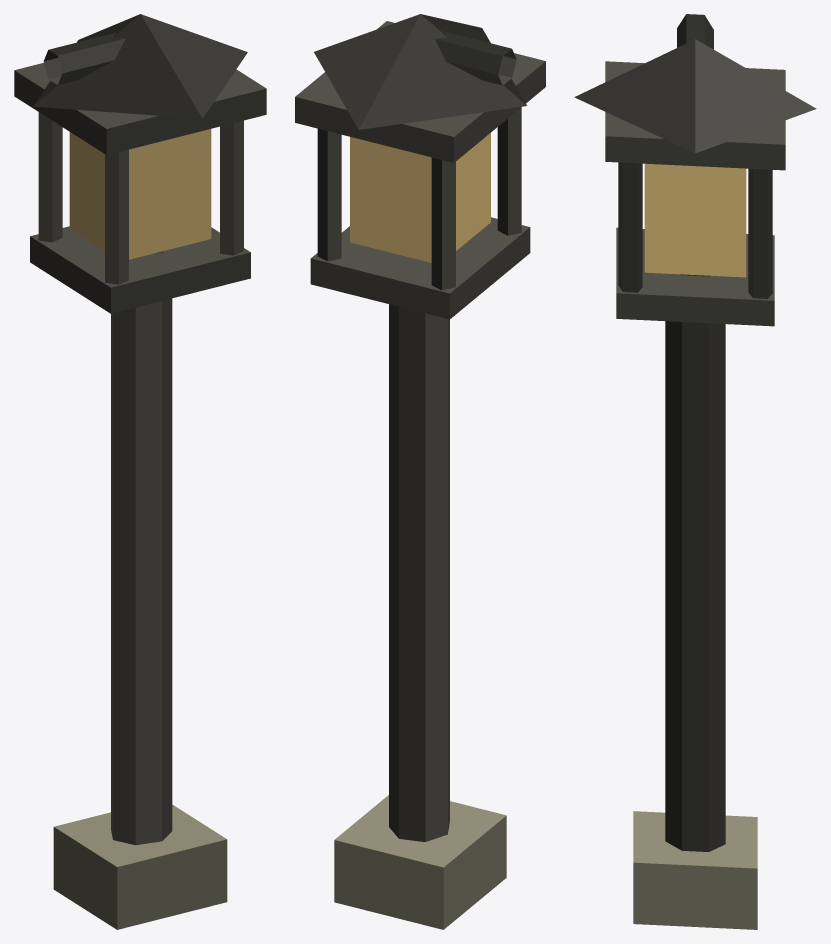
3 views of the same model, side by side, from view 1: azimuth 30°, elevation 25°; view 2: azimuth 150°, elevation 25°; view 3: azimuth 270°, elevation 25° (orthographic). The views are drawn at different scales.
Parts seen in each view (by area): view 1: 81ed4967d3b385b6c397827078aa86af06f202876e8261ff647e7fce7c85; view 2: 81ed4967d3b385b6c397827078aa86af06f202876e8261ff647e7fce7c85; view 3: 81ed4967d3b385b6c397827078aa86af06f202876e8261ff647e7fce7c85.
Boxes of the visible parts, x1=… form: 81ed4967d3b385b6c397827078aa86af06f202876e8261ff647e7fce7c85: x1=14, y1=14, x2=266, y2=929; 81ed4967d3b385b6c397827078aa86af06f202876e8261ff647e7fce7c85: x1=295, y1=14, x2=545, y2=929; 81ed4967d3b385b6c397827078aa86af06f202876e8261ff647e7fce7c85: x1=574, y1=14, x2=816, y2=929.
Bounding box in the file's own units: 0.86 × 3.38 × 0.86.
2 materials, 1 textured.
